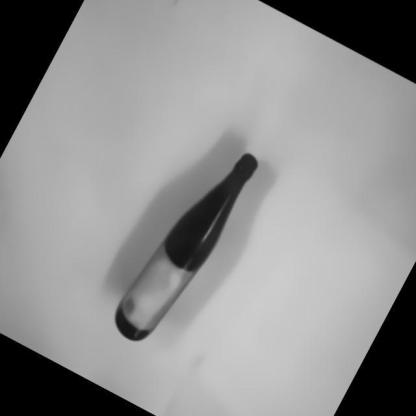Can: (114, 153, 258, 341)
